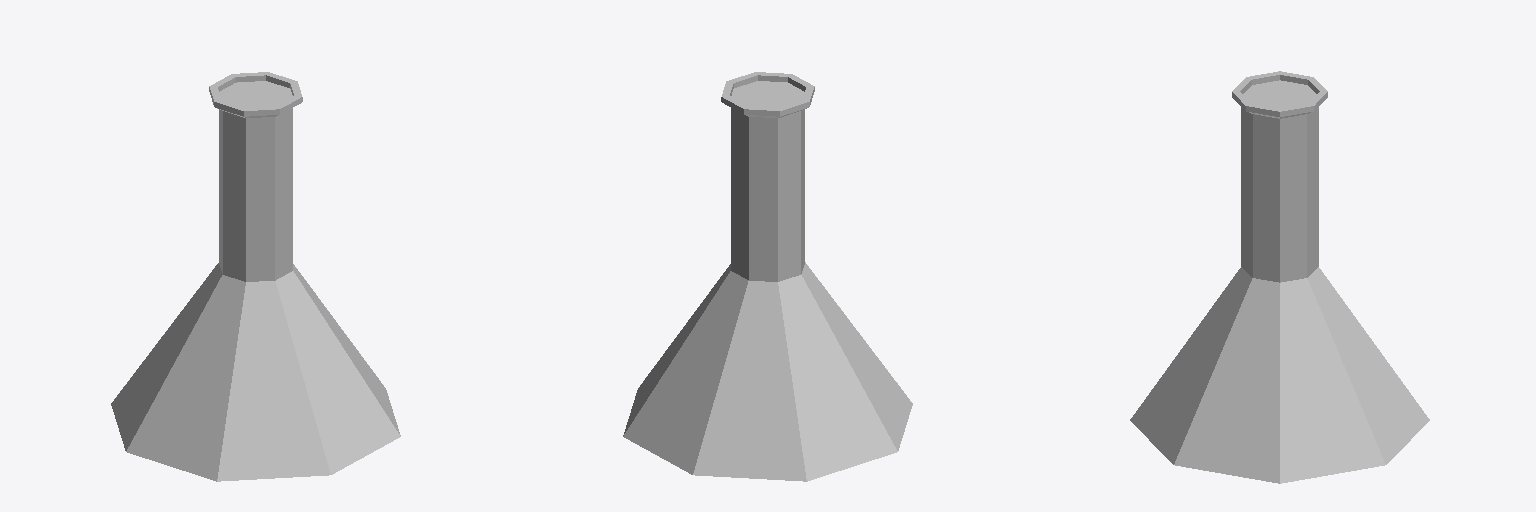
The model's file is Erlenmeyer_Highlight.obj.
3 renders of one model, left to right at view 1: azimuth 30°, elevation 25°; view 2: azimuth 150°, elevation 25°; view 3: azimuth 270°, elevation 25°, orthographic.
Visible parts, largest first — view 1: Mesh1 Model; view 2: Mesh1 Model; view 3: Mesh1 Model.
Boxes of the visible parts, <box> form: Mesh1 Model: <box>111,72,400,481</box>; Mesh1 Model: <box>623,72,912,481</box>; Mesh1 Model: <box>1130,71,1429,483</box>.
Size of the model in its own units: 0.144 by 0.1739 by 0.144.